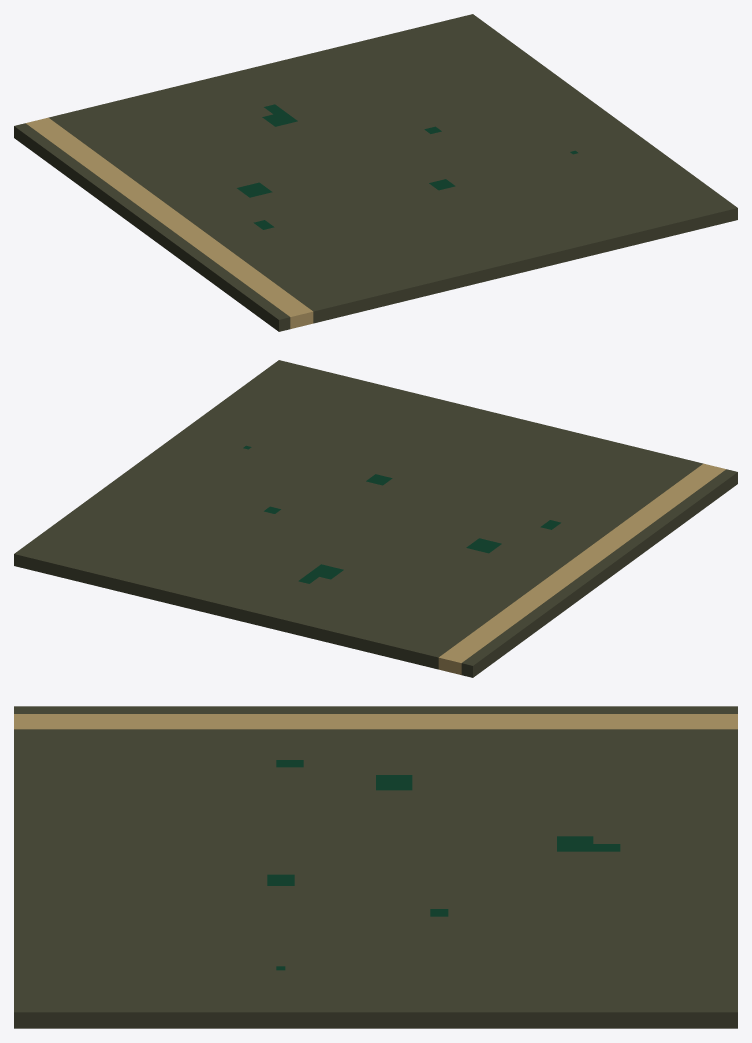
File: Road-Street6-A.glb
The picture shows the model from 3 angles, top to bottom: view 1: azimuth 30°, elevation 25°; view 2: azimuth 150°, elevation 25°; view 3: azimuth 270°, elevation 25°; orthographic projection. The views are drawn at different scales.
Parts seen in each view (by area): view 1: Road-Street6-A; view 2: Road-Street6-A; view 3: Road-Street6-A.
Boxes of the visible parts, box(x1,y1,x2,y2) form: Road-Street6-A: box(14, 14, 737, 331); Road-Street6-A: box(14, 360, 737, 677); Road-Street6-A: box(14, 706, 737, 1028).
Size of the model in its own units: 1.6 by 0.04 by 1.6.
Materials: 1 (1 with a texture image).
